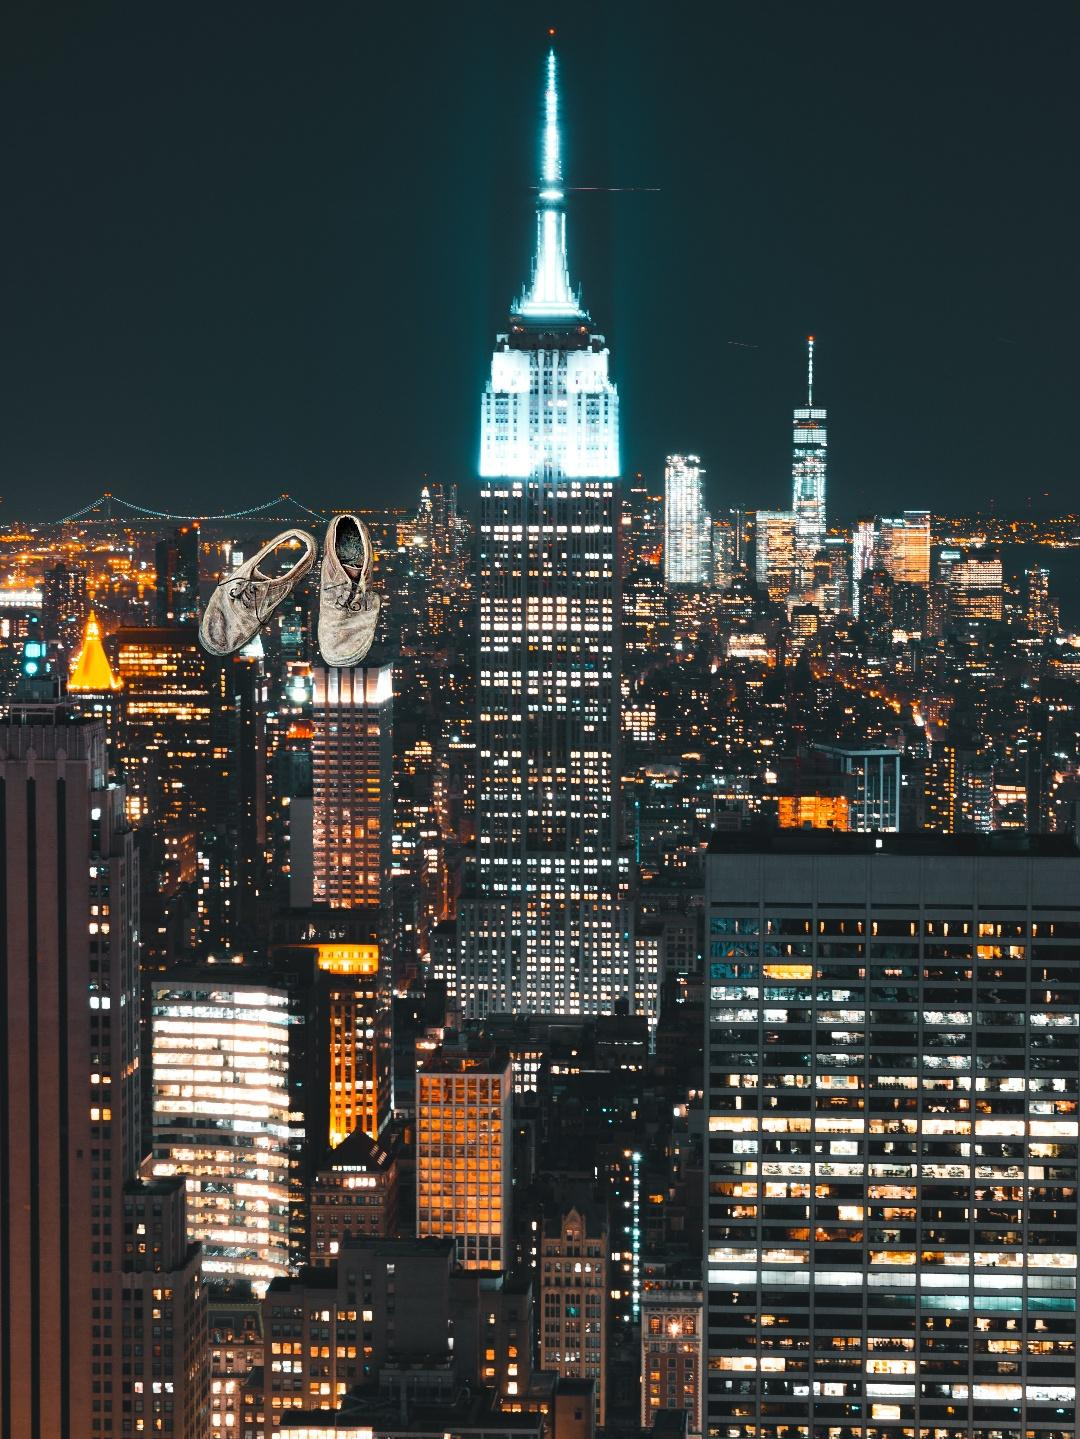shoes: (195, 511, 397, 670)
